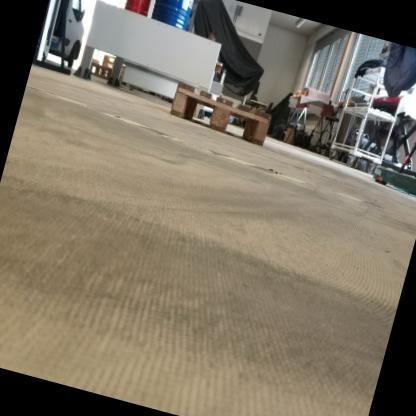BoxFace: (167, 79, 274, 151)
